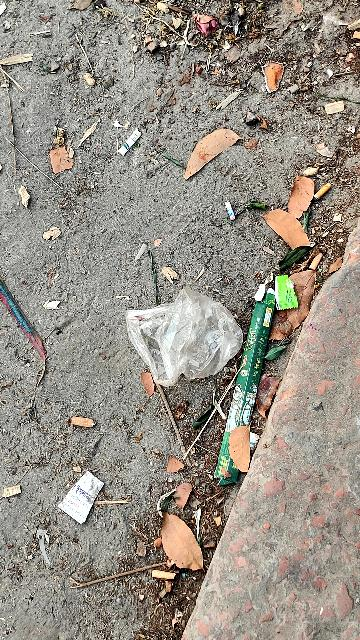polythene: (126, 296, 237, 389)
